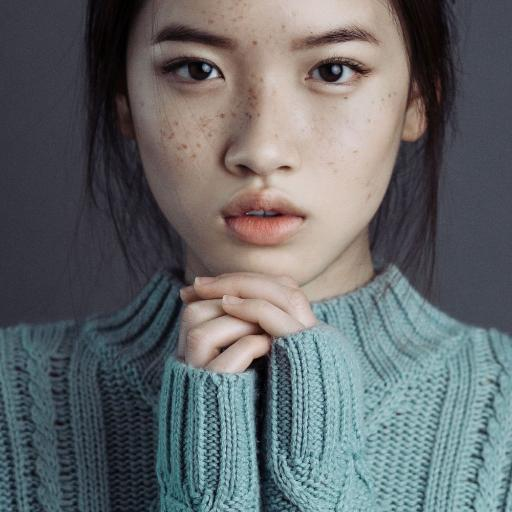left_eye: (302, 57, 374, 92)
left_lip_corner: (299, 208, 314, 228)
right_eye: (161, 57, 228, 90)
right_lip_corner: (217, 205, 232, 230)
